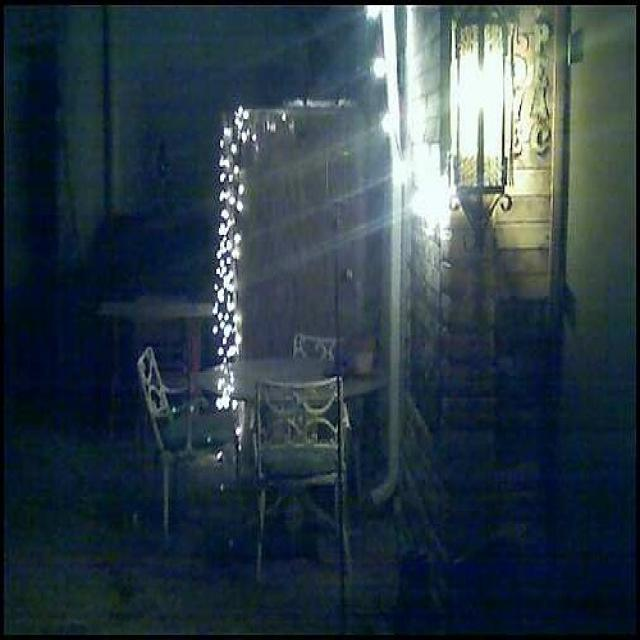Table: (189, 346, 355, 584), (95, 274, 242, 371)
chair: (244, 377, 364, 587), (125, 329, 222, 563), (283, 316, 344, 376)
